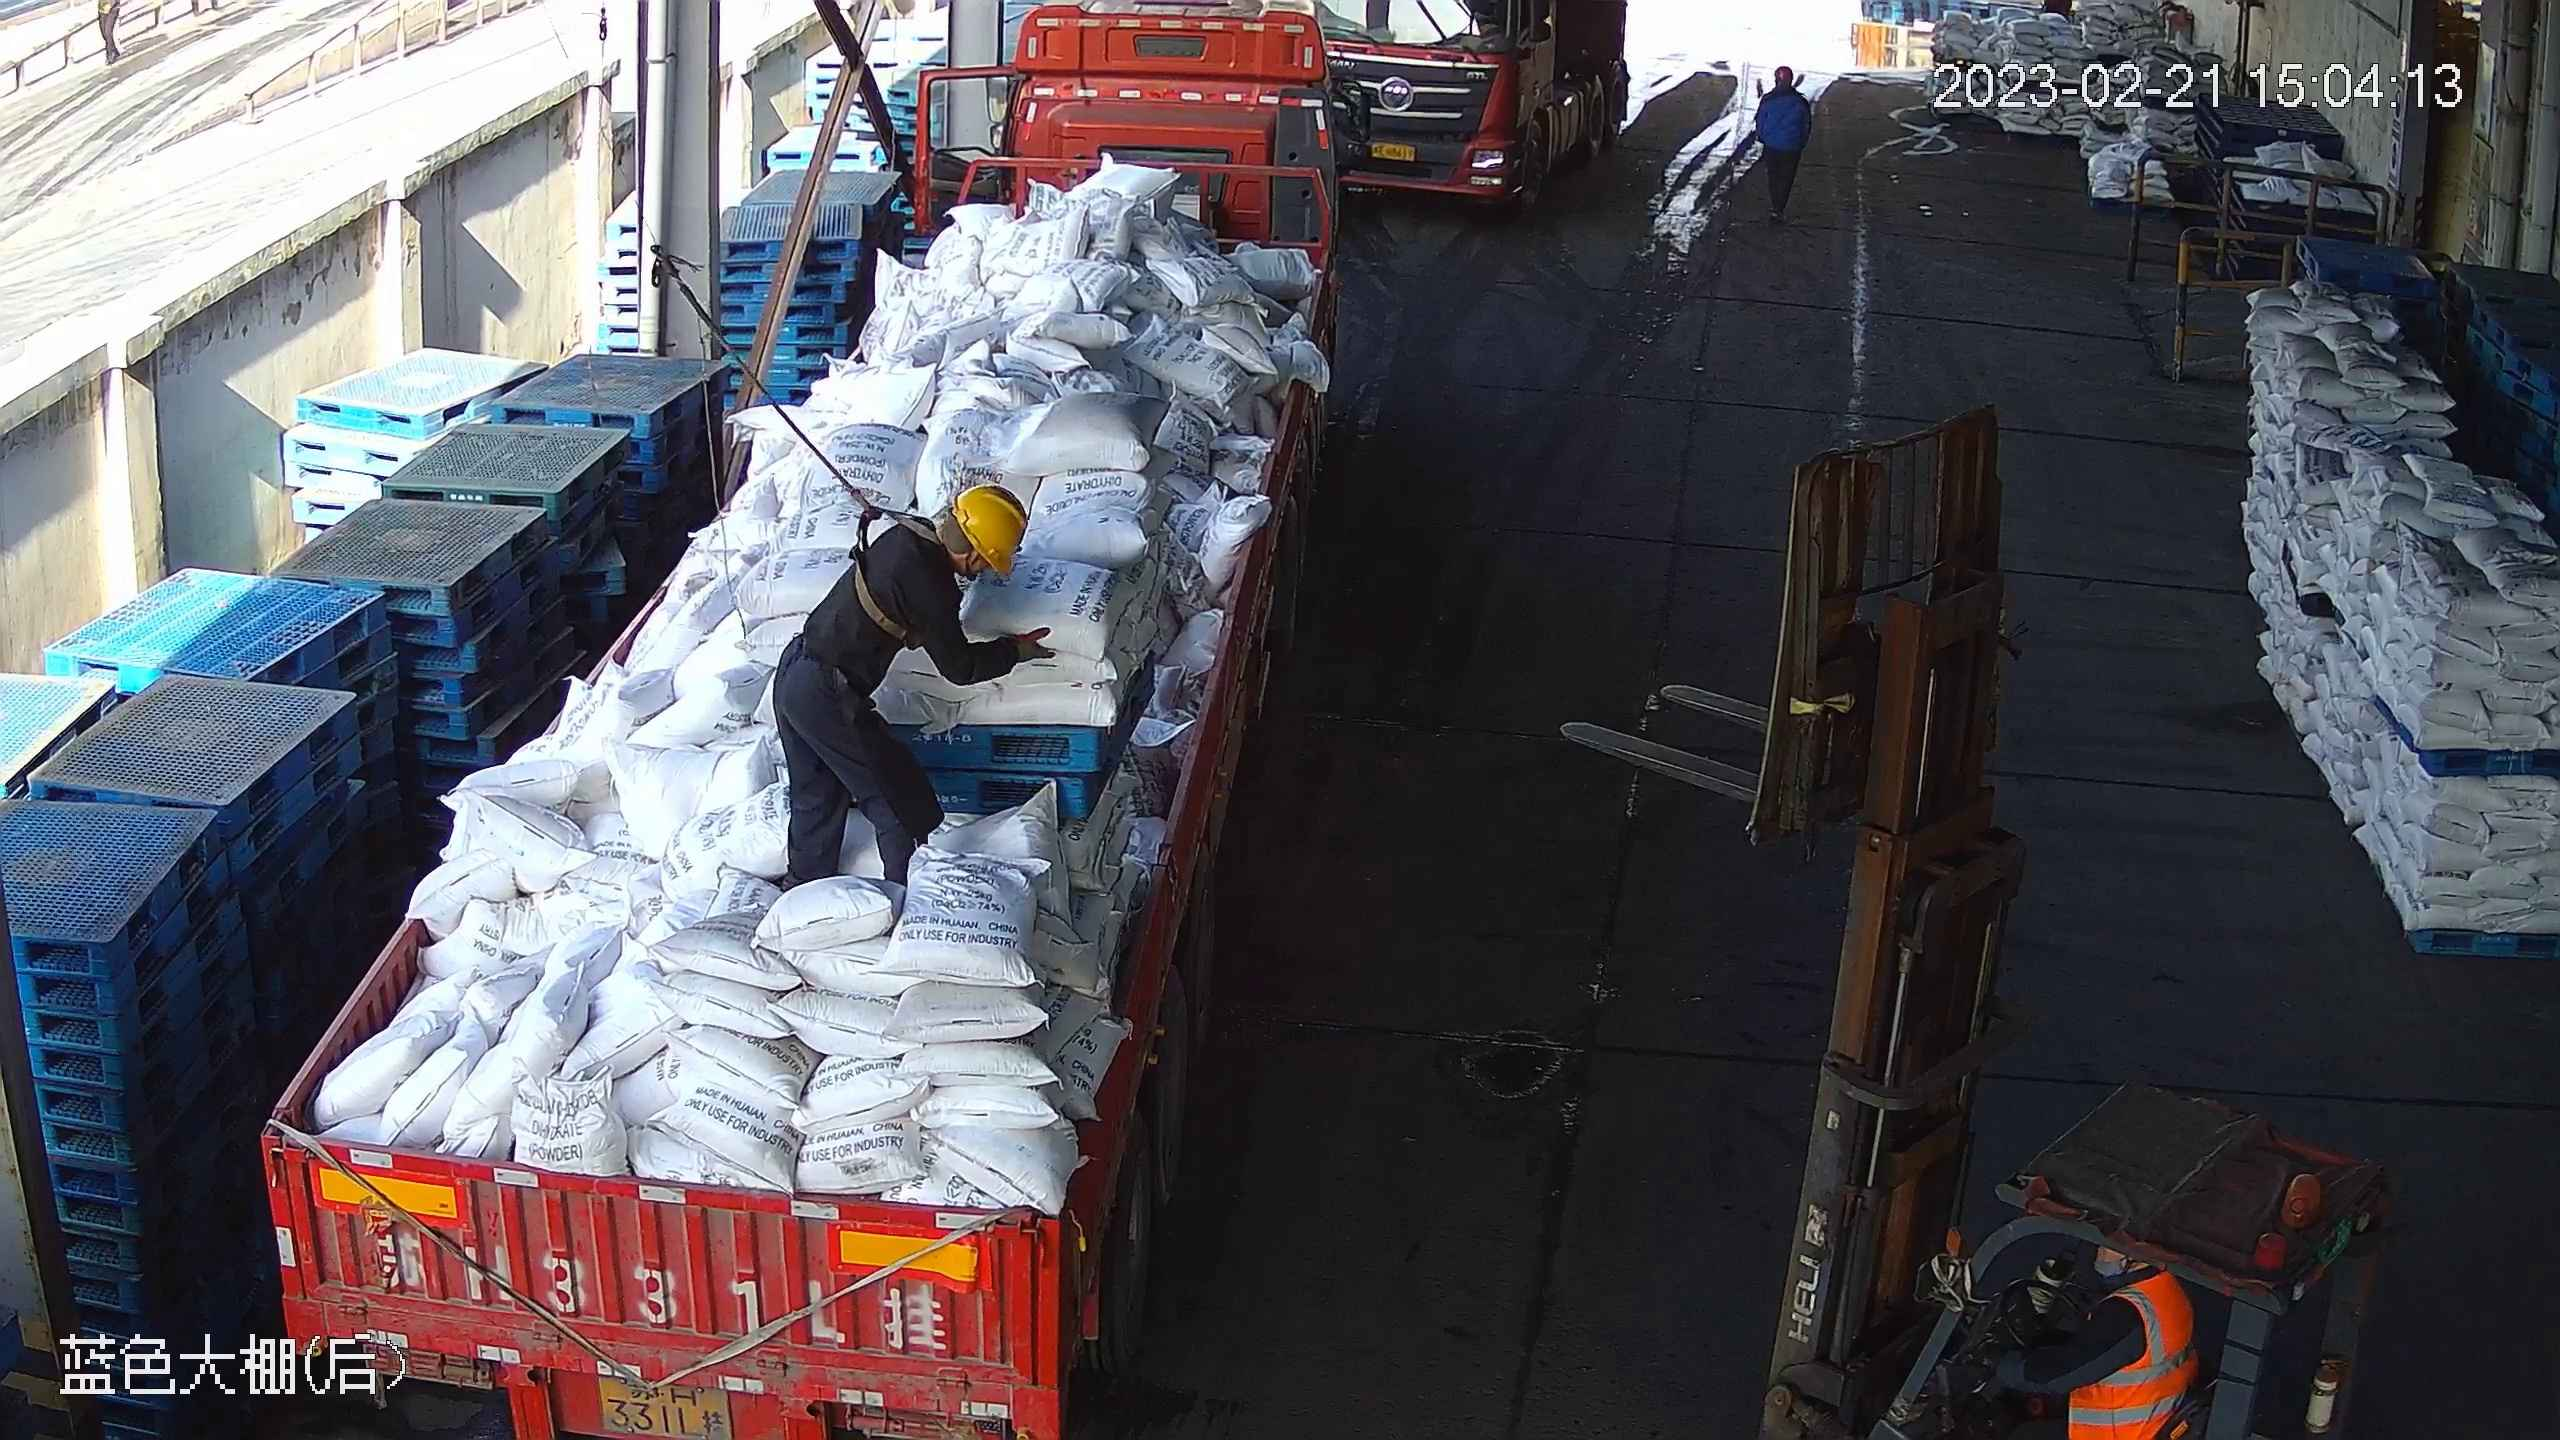belt: (841, 483, 946, 651)
head: (800, 485, 1028, 656), (1757, 66, 1811, 121)
helmet: (957, 490, 1028, 583), (1775, 68, 1795, 83)
people: (773, 484, 1062, 884), (1756, 66, 1811, 226)
truck: (252, 3, 1347, 1440), (1322, 1, 1635, 227)
